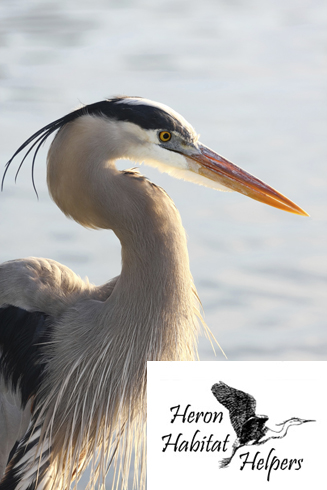heron: (2, 97, 310, 360)
